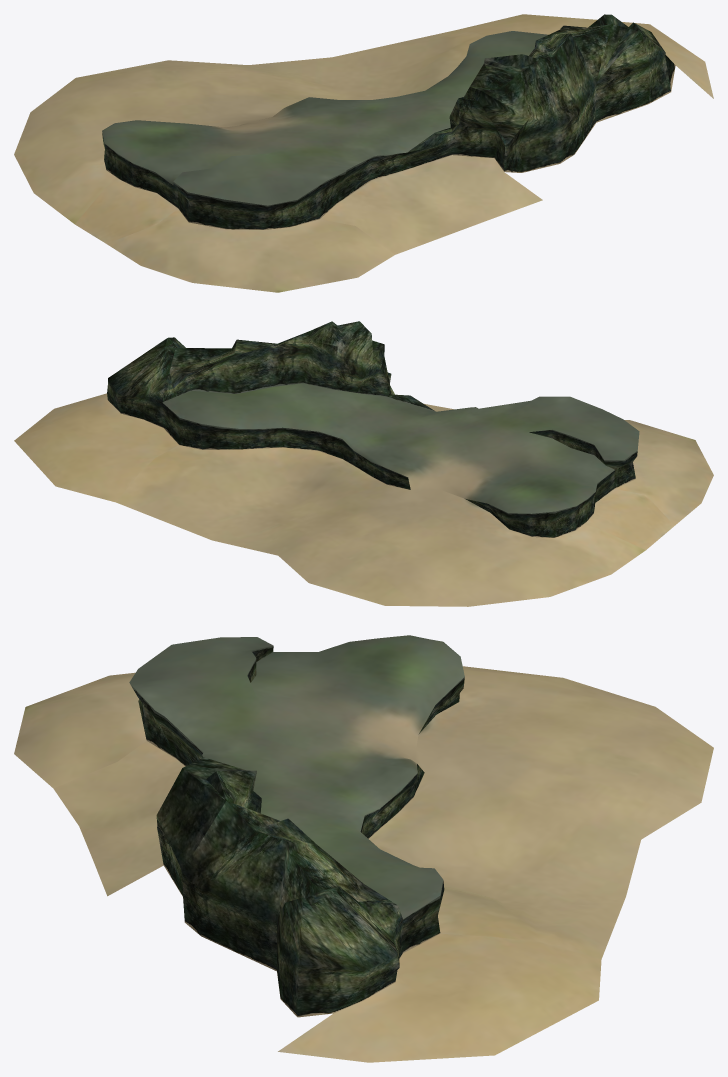
Rendered from pir_m_are_isl_pvpSpanish.fbx.
The picture shows the model from 3 angles, top to bottom: view 1: azimuth 30°, elevation 25°; view 2: azimuth 150°, elevation 25°; view 3: azimuth 270°, elevation 25°; orthographic projection. The views are drawn at different scales.
Visible parts, largest first — view 1: floor, rock_wall_1; view 2: floor, rock_wall_1, rock_wall_2; view 3: floor, rock_wall_1.
Boxes of the visible parts, box(x1,y1,x2,y2) form: floor: box(14, 14, 713, 292); rock_wall_1: box(102, 14, 675, 229); floor: box(14, 383, 713, 606); rock_wall_1: box(107, 321, 637, 537); rock_wall_2: box(162, 347, 435, 411); floor: box(14, 635, 713, 1062); rock_wall_1: box(130, 645, 464, 1017).
Size of the model in its own units: 113568 by 19565 by 84525.
1 material, 1 textured.
